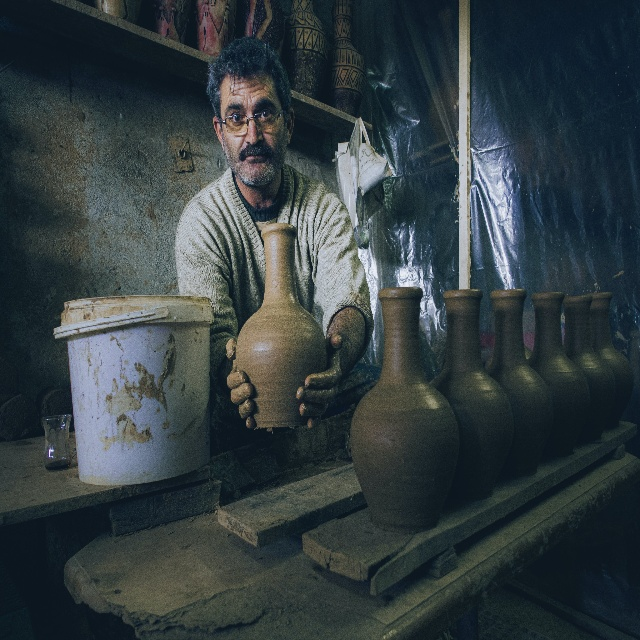Gafas: (225, 112, 278, 135)
Sin_guantes: (293, 320, 345, 426), (223, 339, 254, 426)
